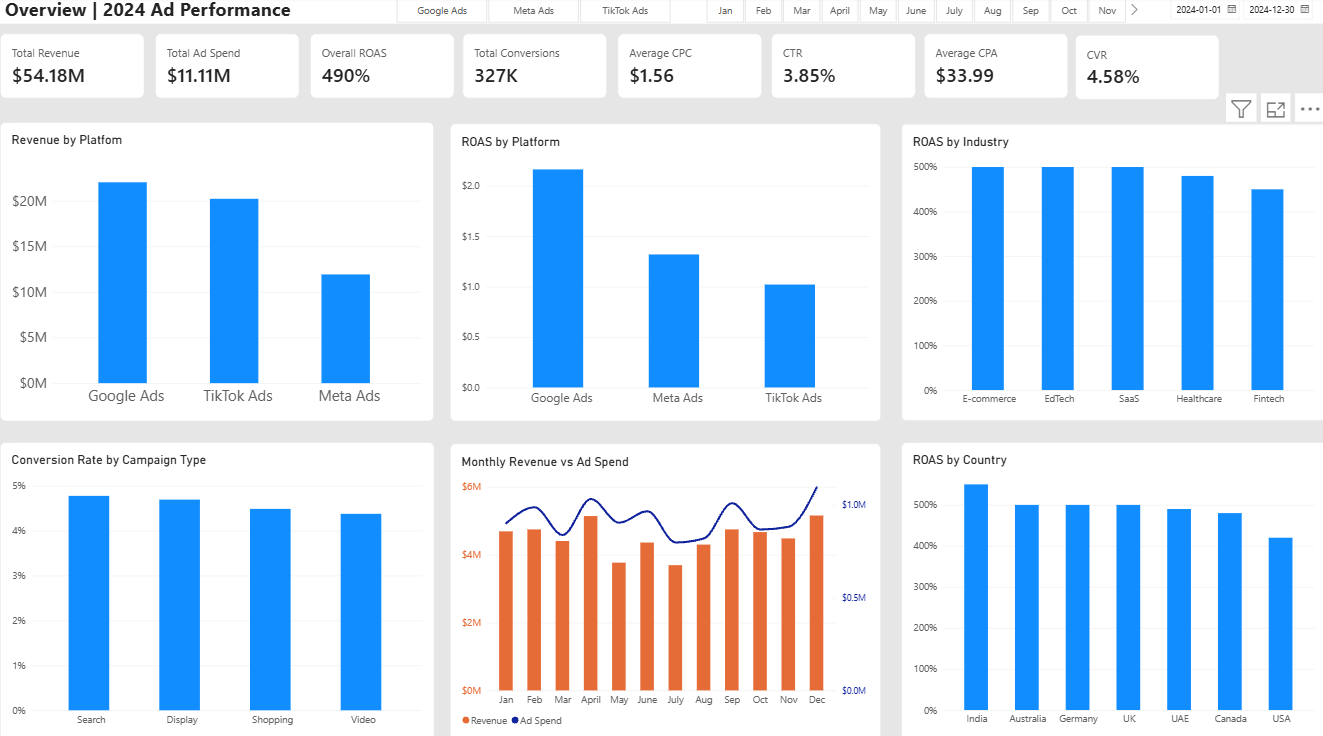

This screenshot's page, from the dashboard's own definition file:
{"tool":"powerbi","page":{"name":"Overview","canvas":[1920,1080],"ordinal":0},"visuals":[{"type":"lineStackedColumnComboChart","title":"Revenue by Platfom","fields":{"Category":["Fact_ad_performance.platform"],"Y":["Sum(Fact_ad_performance.revenue)"]},"box":[0,182.8,628,432.5],"z":0},{"type":"lineStackedColumnComboChart","title":"Monthly Revenue vs Ad Spend","fields":{"Category":["Dim_date.month"],"Y":["Sum(Fact_ad_performance.revenue)"],"Y2":["Sum(Fact_ad_performance.ad_spend)"]},"box":[651.7,647.7,623.8,432.3],"z":1000},{"type":"clusteredColumnChart","title":"ROAS by Platform","fields":{"Category":["Fact_ad_performance.platform"],"Y":["Fact_ad_performance.CPC"]},"box":[651.7,184.9,623.8,430.9],"z":2000},{"type":"lineStackedColumnComboChart","title":"Conversion Rate by Campaign Type","fields":{"Category":["Fact_ad_performance.campaign_type"],"Y":["Fact_ad_performance.CVR"]},"box":[0,645.9,628.6,432.9],"z":3000},{"type":"textbox","box":[0,0,1920.4,40.3],"z":4000},{"type":"cardVisual","fields":{"Data":["Sum(Fact_ad_performance.revenue)"]},"box":[0,54.5,209.8,94.8],"z":5000},{"type":"cardVisual","fields":{"Data":["Fact_ad_performance.ROAS"]},"box":[448.9,55,209.8,94.8],"z":6000},{"type":"lineStackedColumnComboChart","title":"ROAS by Industry","fields":{"Category":["Fact_ad_performance.industry"],"Y":["Fact_ad_performance.ROAS"]},"box":[1304.8,184.6,615.3,430.7],"z":7000},{"type":"cardVisual","fields":{"Data":["Sum(Fact_ad_performance.ad_spend)"]},"box":[224.4,55,209.8,94.8],"z":8000},{"type":"lineStackedColumnComboChart","title":"ROAS by Country","fields":{"Category":["Fact_ad_performance.country"],"Y":["Fact_ad_performance.ROAS"]},"box":[1304.8,646,615.3,432.5],"z":9000},{"type":"slicer","fields":{"Values":["Dim_date.month_name"]},"box":[1002.7,0,645.9,40.5],"z":10000},{"type":"cardVisual","fields":{"Data":["Fact_ad_performance.CPC"]},"box":[894.8,55,209.8,94.8],"z":11000},{"type":"cardVisual","fields":{"Data":["Fact_ad_performance.CTR"]},"box":[1116.4,55,209.8,94.8],"z":12000},{"type":"cardVisual","fields":{"Data":["Sum(Fact_ad_performance.conversions)"]},"box":[670.4,55,209.8,94.8],"z":13000},{"type":"cardVisual","fields":{"Data":["Fact_ad_performance.CPA"]},"box":[1336.5,55,209.8,94.8],"z":14000},{"type":"slicer","fields":{"Values":["Fact_ad_performance.platform"]},"box":[554.1,0,435.7,40],"z":15000},{"type":"slicer","fields":{"Values":["Dim_date.date"]},"box":[1685.7,0,234.3,40],"z":16000},{"type":"cardVisual","fields":{"Data":["Fact_ad_performance.CVR"]},"box":[1556.8,55.4,209.8,94.8],"z":17000}]}

Visuals, with their boxes in screenshot pixels (x1, y1, x2, y2), scaled from the page's 1920x1080 canvas onto the 1323x736 screenshot:
"Revenue by Platfom" lineStackedColumnComboChart: (x1=0, y1=125, x2=433, y2=419)
"Monthly Revenue vs Ad Spend" lineStackedColumnComboChart: (x1=449, y1=441, x2=879, y2=735)
"ROAS by Platform" clusteredColumnChart: (x1=449, y1=126, x2=879, y2=420)
"Conversion Rate by Campaign Type" lineStackedColumnComboChart: (x1=0, y1=440, x2=433, y2=735)
textbox: (x1=0, y1=0, x2=1322, y2=27)
cardVisual - Sum(Fact_ad_performance.revenue): (x1=0, y1=37, x2=145, y2=102)
cardVisual - Fact_ad_performance.ROAS: (x1=309, y1=37, x2=454, y2=102)
"ROAS by Industry" lineStackedColumnComboChart: (x1=899, y1=126, x2=1322, y2=419)
cardVisual - Sum(Fact_ad_performance.ad_spend): (x1=155, y1=37, x2=299, y2=102)
"ROAS by Country" lineStackedColumnComboChart: (x1=899, y1=440, x2=1322, y2=735)
slicer - Dim_date.month_name: (x1=691, y1=0, x2=1136, y2=28)
cardVisual - Fact_ad_performance.CPC: (x1=617, y1=37, x2=761, y2=102)
cardVisual - Fact_ad_performance.CTR: (x1=769, y1=37, x2=914, y2=102)
cardVisual - Sum(Fact_ad_performance.conversions): (x1=462, y1=37, x2=607, y2=102)
cardVisual - Fact_ad_performance.CPA: (x1=921, y1=37, x2=1065, y2=102)
slicer - Fact_ad_performance.platform: (x1=382, y1=0, x2=682, y2=27)
slicer - Dim_date.date: (x1=1162, y1=0, x2=1322, y2=27)
cardVisual - Fact_ad_performance.CVR: (x1=1073, y1=38, x2=1217, y2=102)
